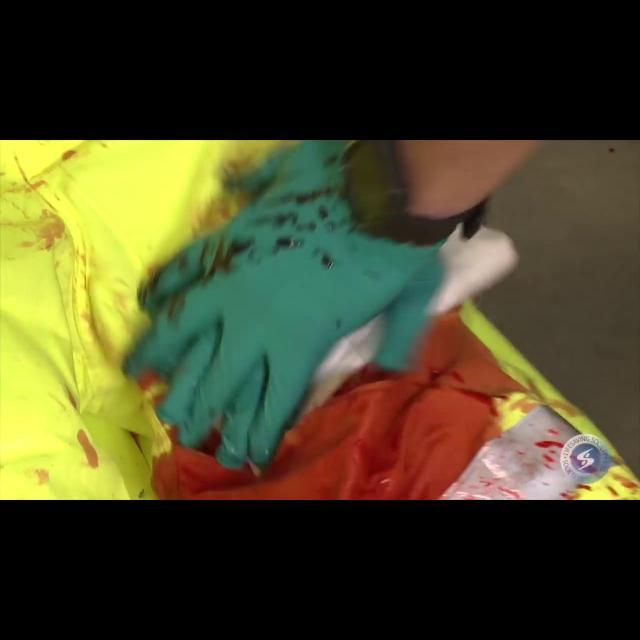blood: (155, 312, 524, 499), (136, 370, 168, 408), (196, 428, 222, 457), (195, 428, 221, 457), (163, 424, 178, 446), (536, 441, 565, 448), (322, 254, 334, 268)
